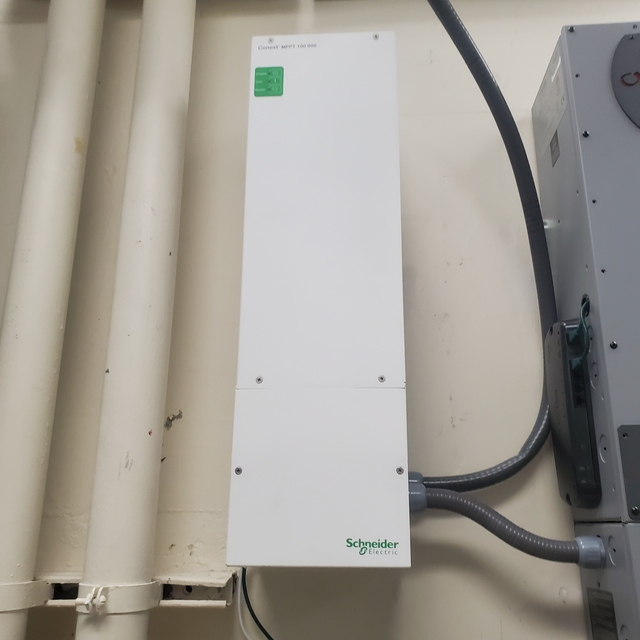charge_controller: (226, 29, 411, 571)
